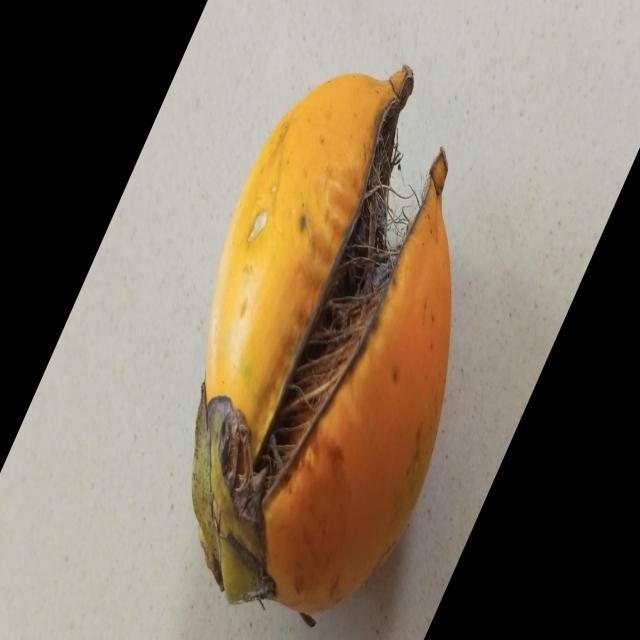damaged: (192, 66, 451, 613)
